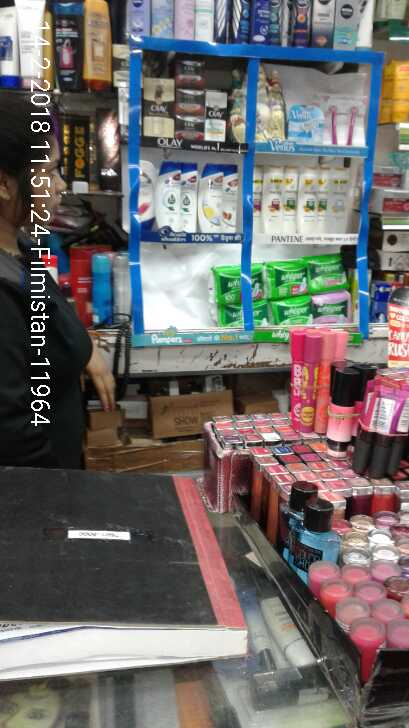venus: (286, 106, 324, 143), (341, 94, 363, 146), (328, 98, 340, 147)
